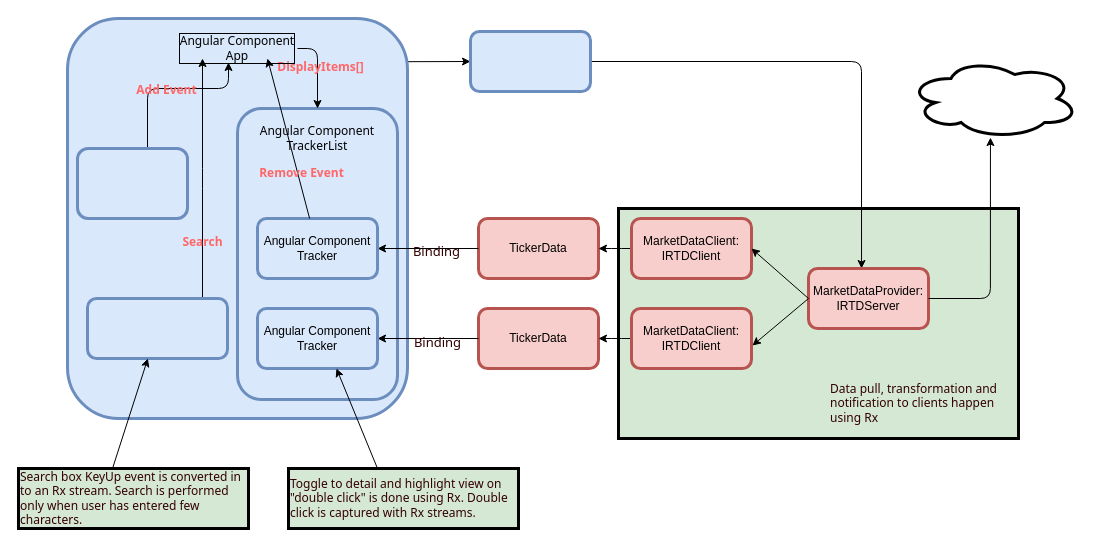
Some shapes in this 1097 by 547 pixel diagram are drawn without their labels. Here are the shapes that lost their labels. From the top down, the centre of each, then its label:
the point at 530,61: Angular Service TickerTracker
the point at 993,98: Google Finance API
the point at 132,183: Angular Component AddTracker
the point at 157,328: Angular Component Search
